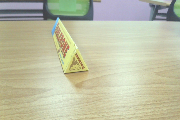Chocolate: (46, 15, 94, 79)
